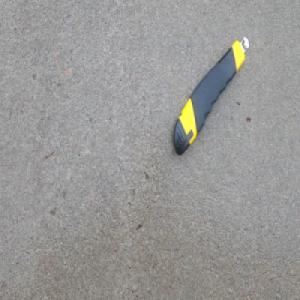Cutter: (170, 34, 250, 156)
